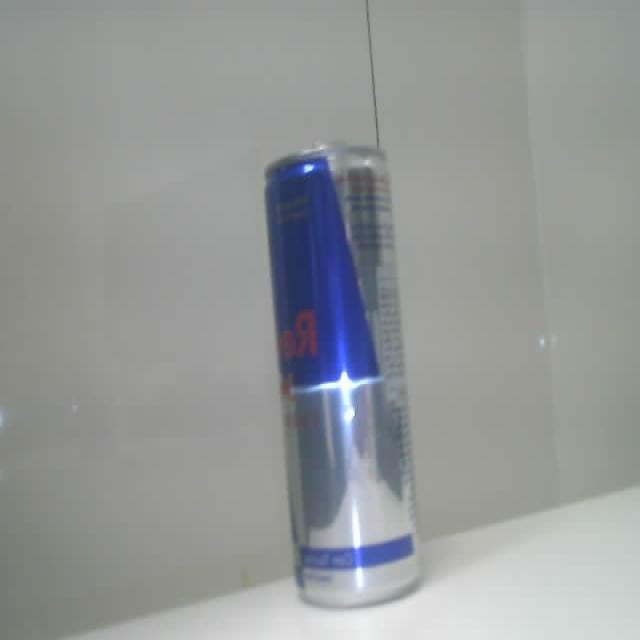redbull can: (266, 144, 419, 606)
